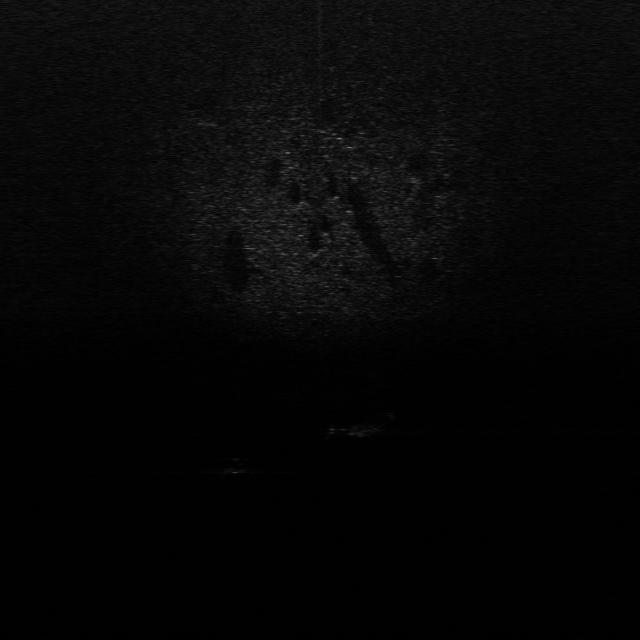ball: (220, 453, 258, 477)
human body: (321, 411, 398, 439)
